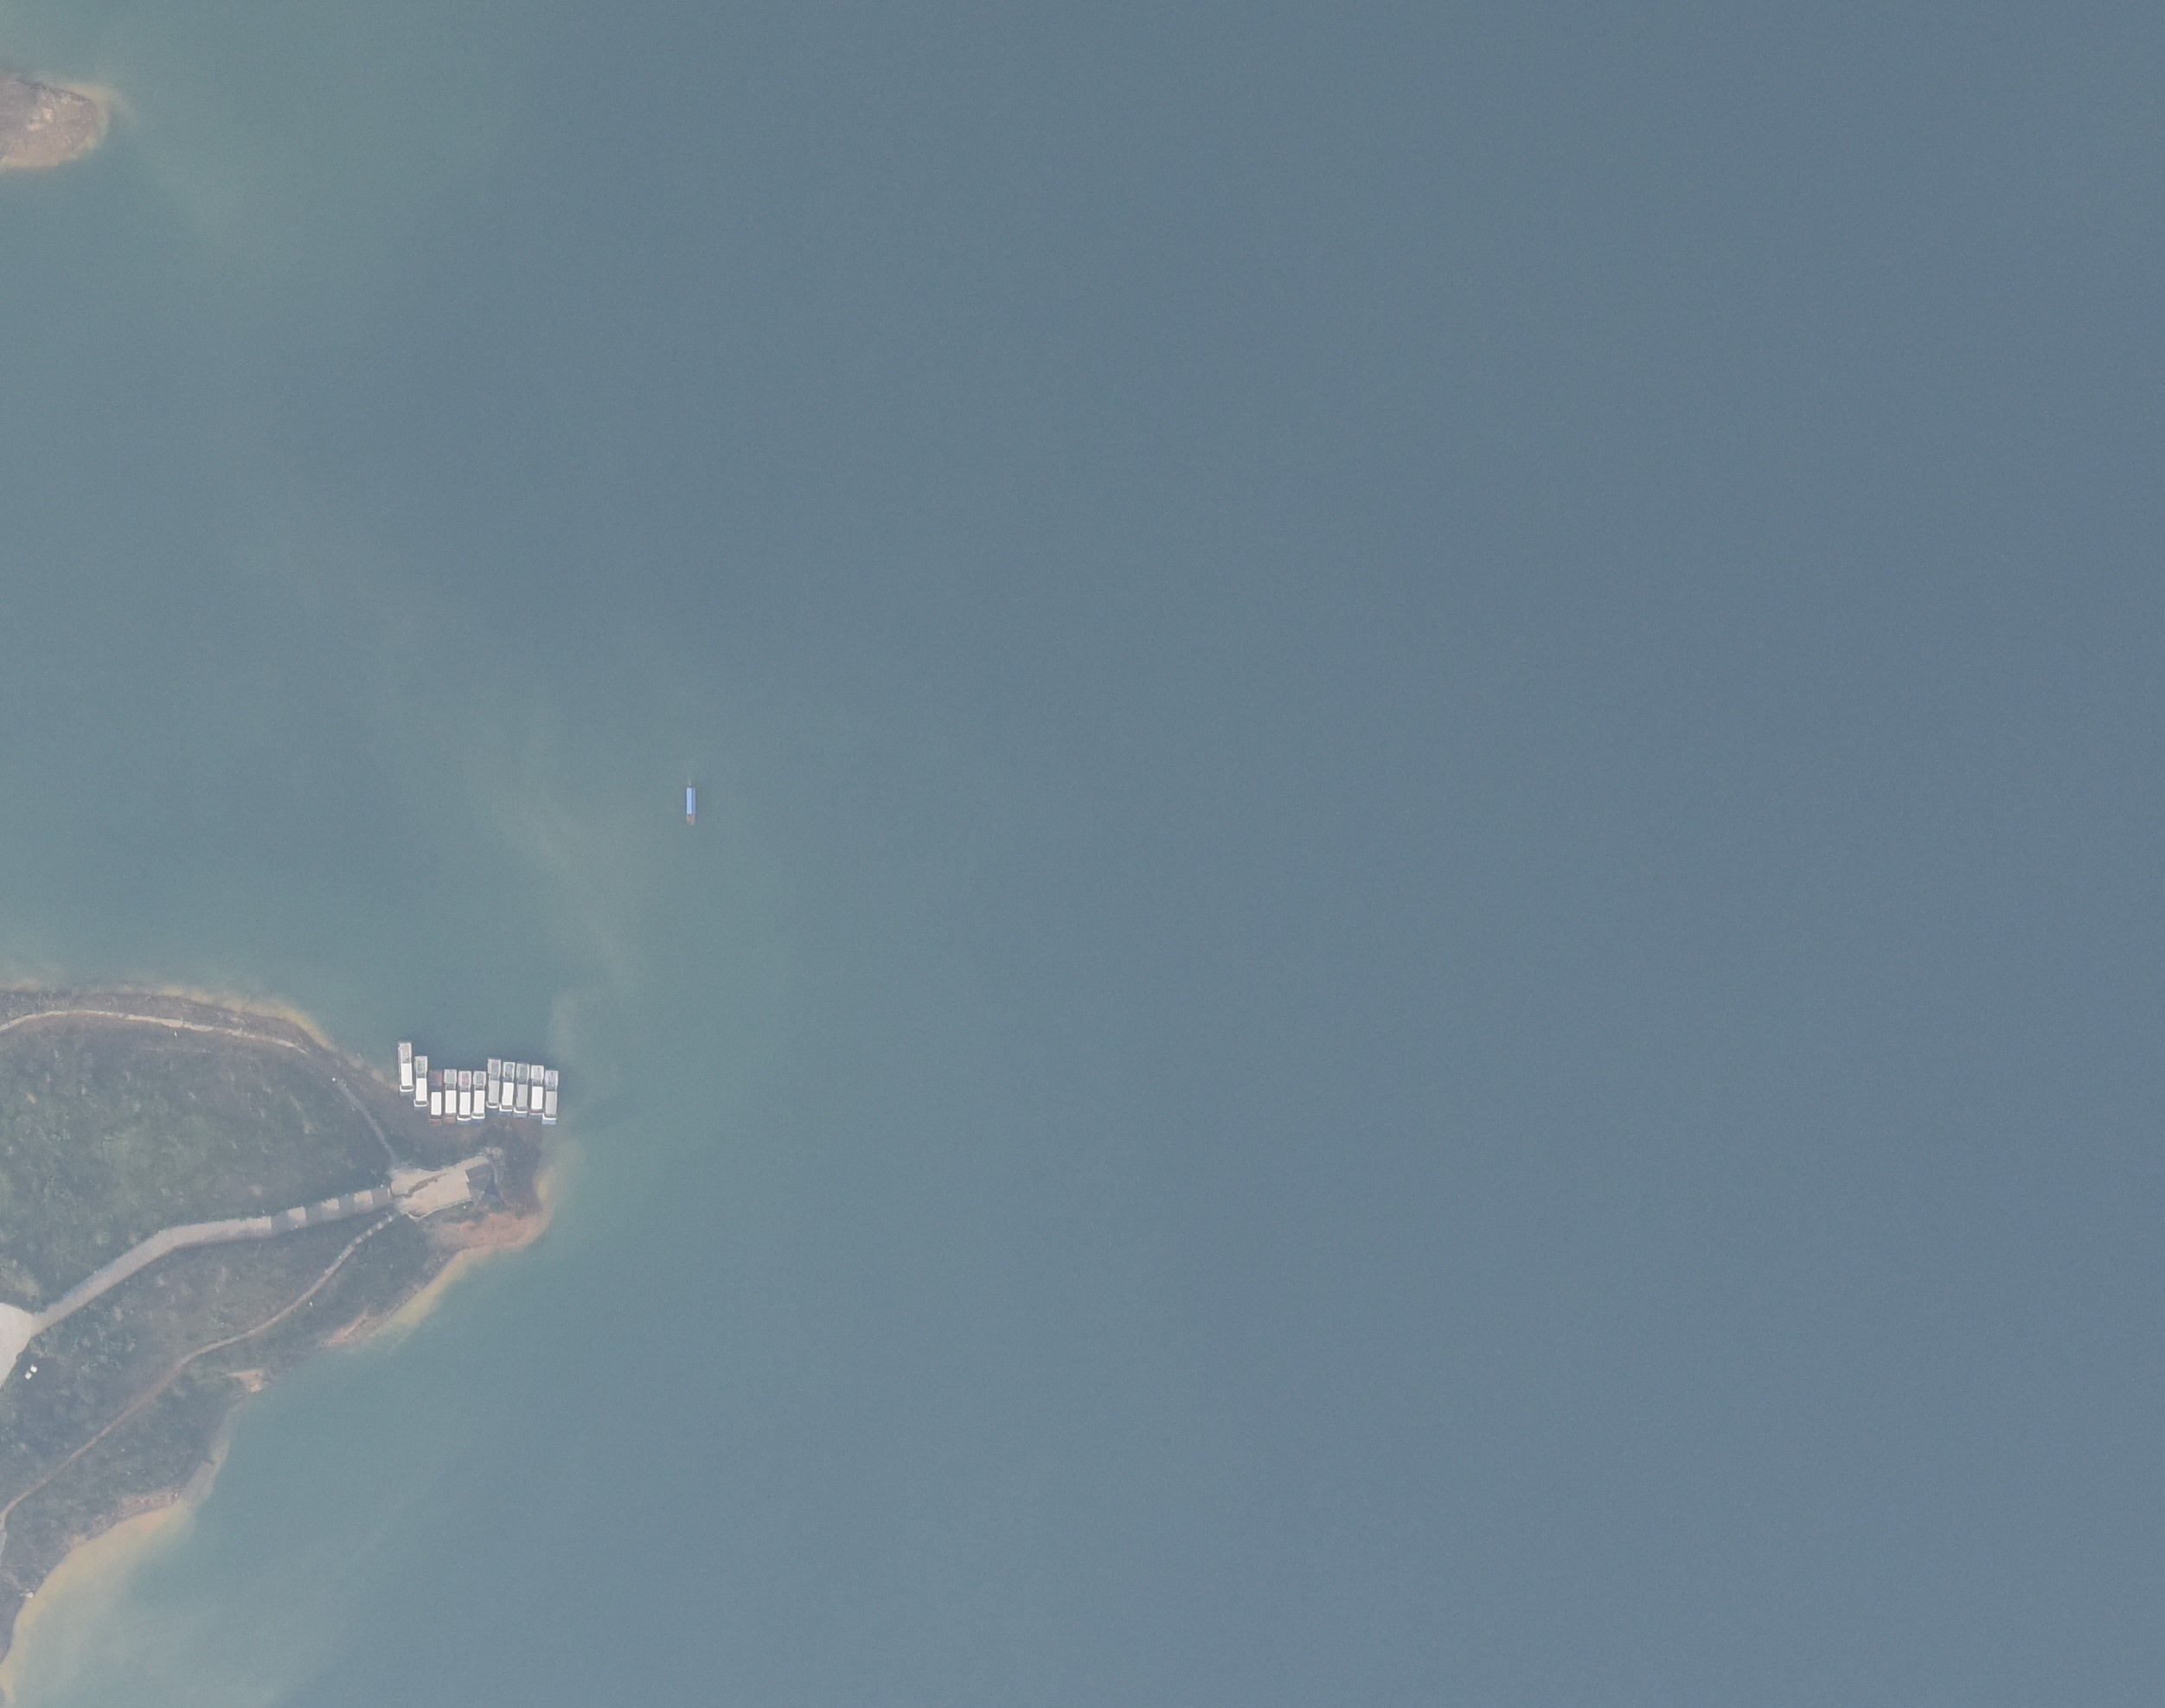ship: (525, 1054, 547, 1121), (510, 1058, 531, 1119), (413, 1053, 434, 1109), (543, 1063, 561, 1126), (394, 1039, 413, 1095), (441, 1063, 459, 1125), (425, 1070, 445, 1125), (455, 1067, 474, 1121), (469, 1067, 489, 1121), (483, 1056, 503, 1111), (680, 780, 701, 828), (501, 1056, 515, 1112)
